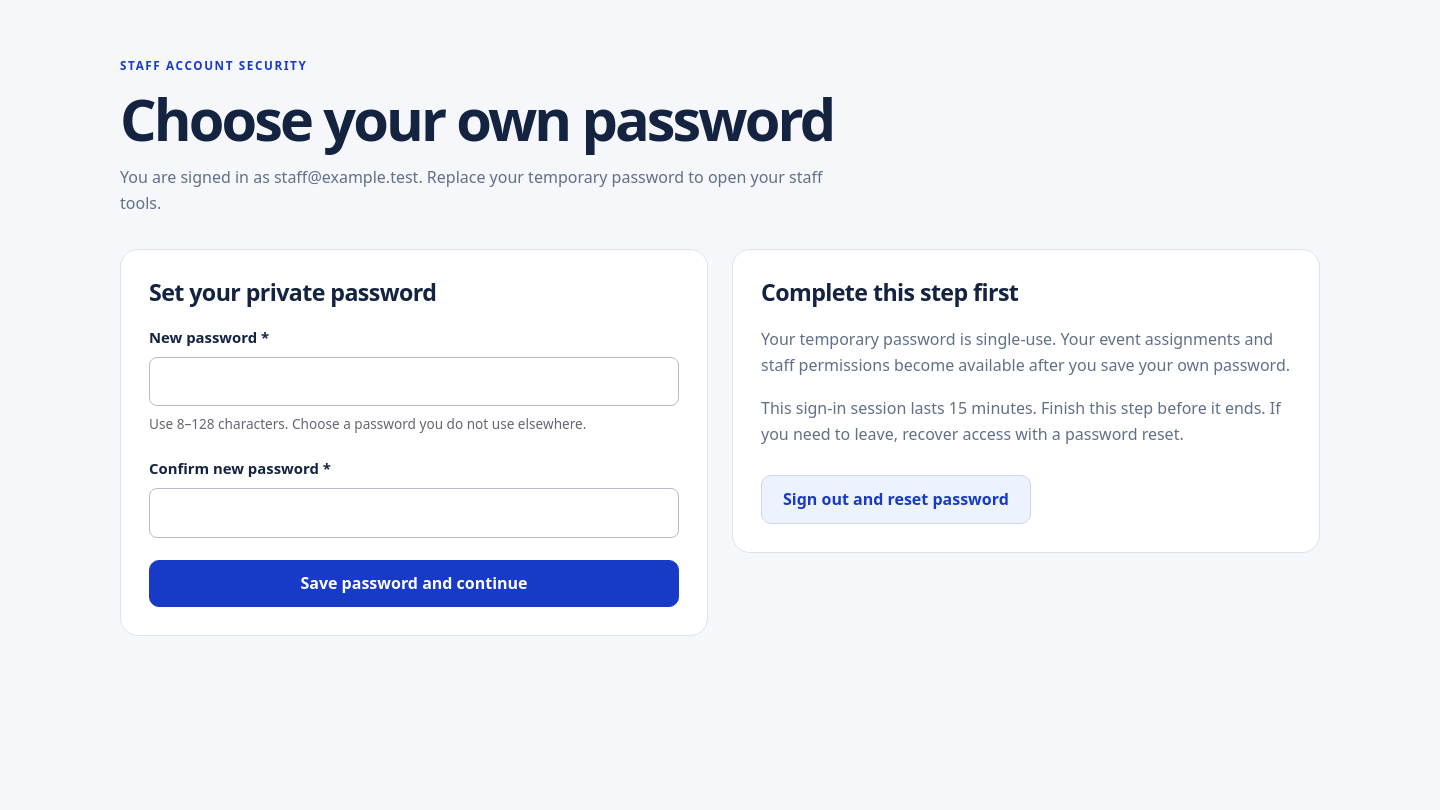
it: rejects incomplete server confirmation without opening staff tools
In the password field named "newPassword": coordinates (414, 382) left=149, top=357, right=679, bottom=406, type "PrivateStaff!232"
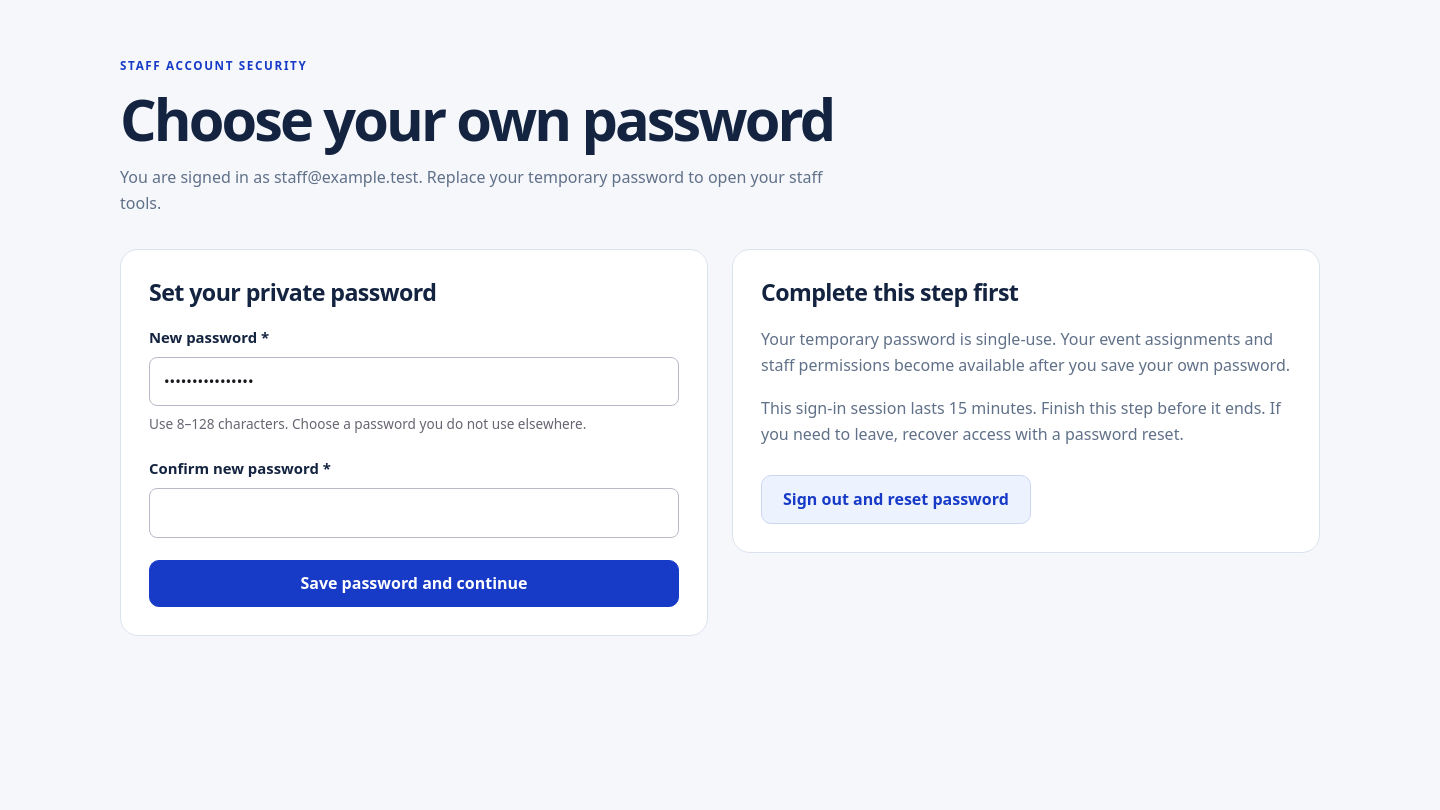
In the password field labelled "Confirm new password *": coordinates (414, 513) left=149, top=488, right=679, bottom=538, type "PrivateStaff!232"
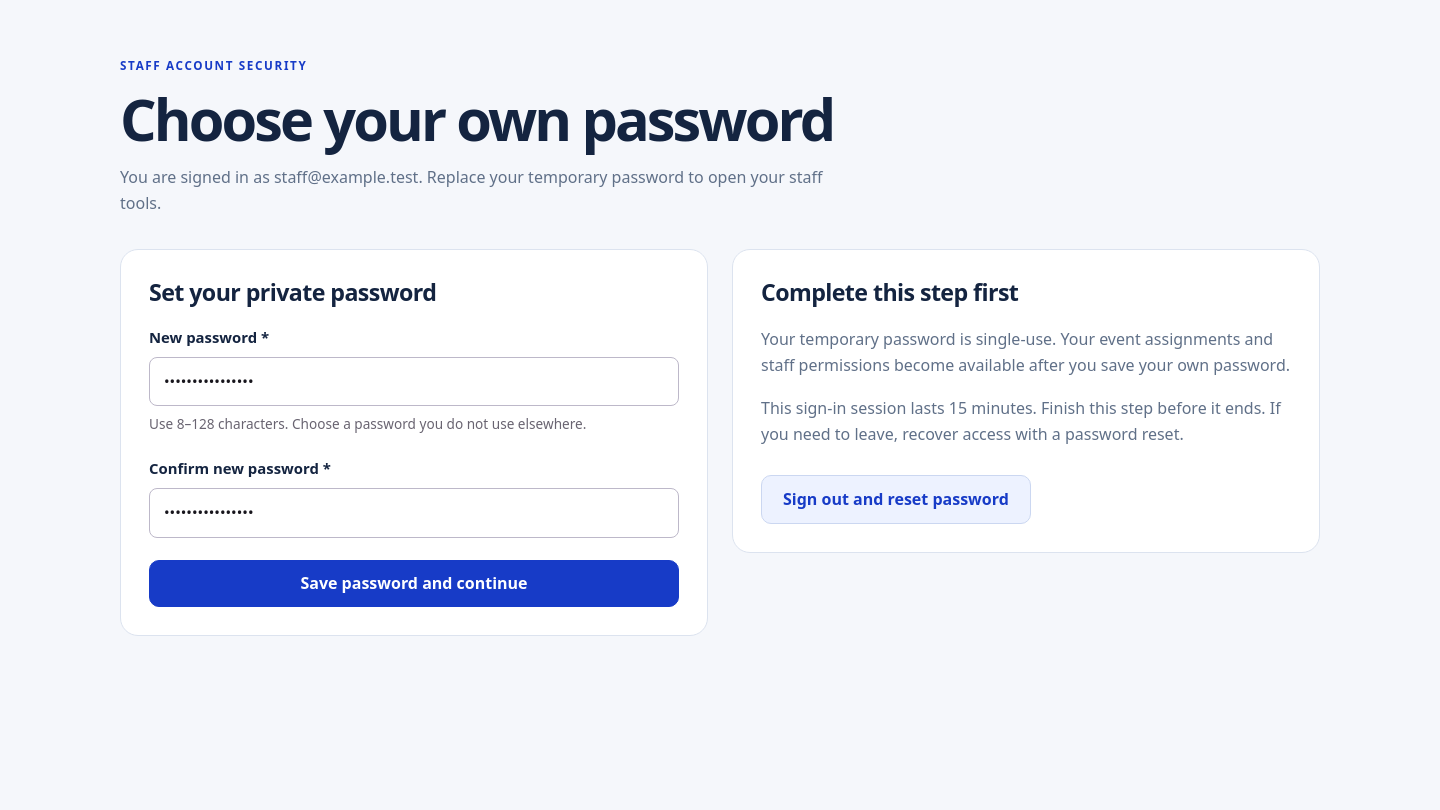
Submit the form, box left=149, top=326, right=679, bottom=607
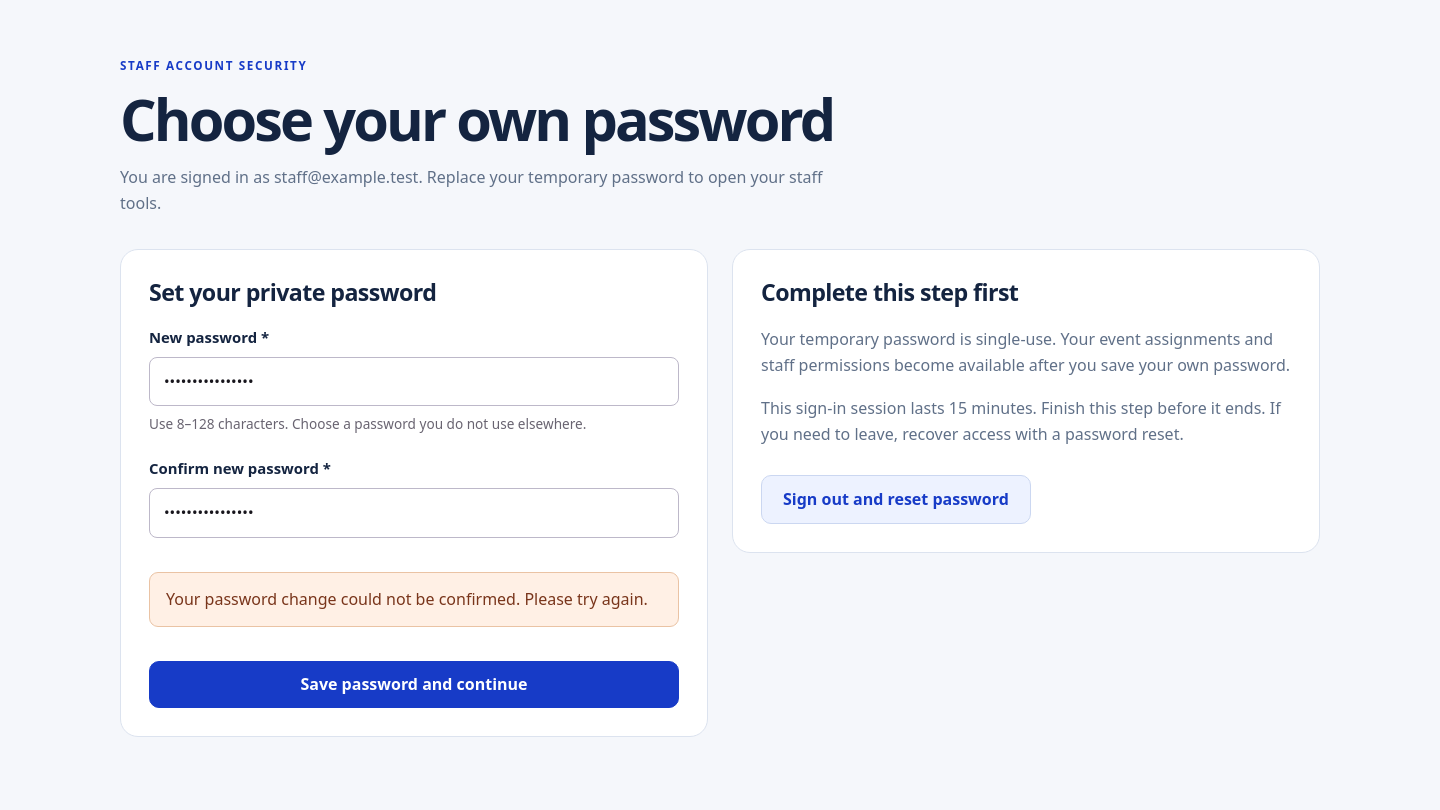
Now the message "Your password change could not be confirmed. Please try again." is shown, box left=149, top=572, right=679, bottom=627
